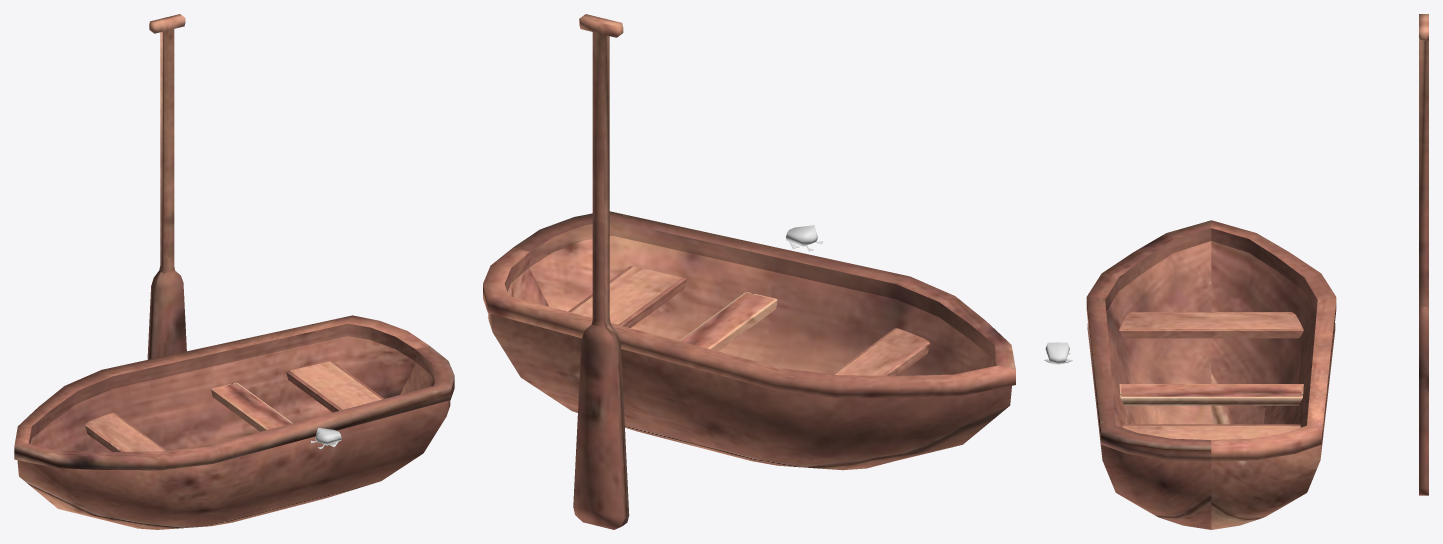
Rendered from boat_02.fbx.
3 views of the same model, side by side, from view 1: azimuth 30°, elevation 25°; view 2: azimuth 150°, elevation 25°; view 3: azimuth 270°, elevation 25° (orthographic). The views are drawn at different scales.
Parts seen in each view (by area): view 1: Sphere, Sphere.001; view 2: Sphere, Sphere.001, Cube.007; view 3: Sphere, Sphere.001, Cube.007.
Part boxes in pixels (<box>): Sphere: <box>14,315,454,529</box>; Sphere.001: <box>147,14,186,359</box>; Sphere: <box>483,211,1015,470</box>; Sphere.001: <box>573,14,629,529</box>; Cube.007: <box>786,225,823,251</box>; Sphere: <box>1086,220,1336,529</box>; Sphere.001: <box>1419,14,1428,495</box>; Cube.007: <box>1044,342,1072,364</box>.
Bounding box in the file's own units: 254 × 244 × 182.
